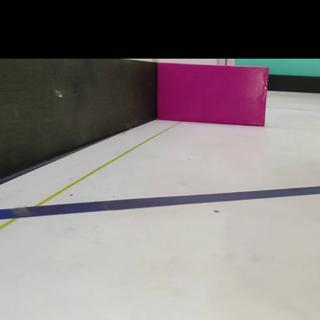xparking: (161, 67, 268, 125)
